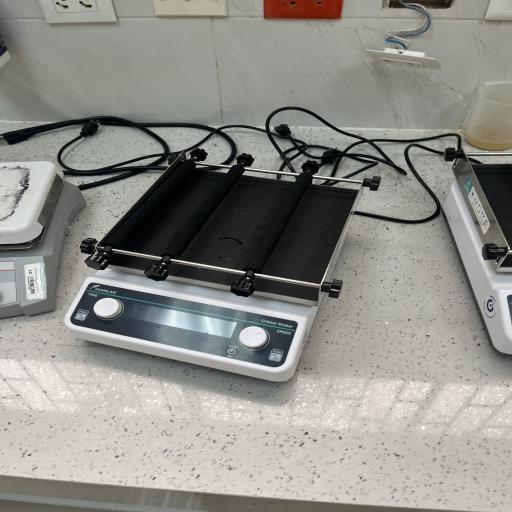Agitador_Orbital_DLAB: (53, 142, 398, 395)
